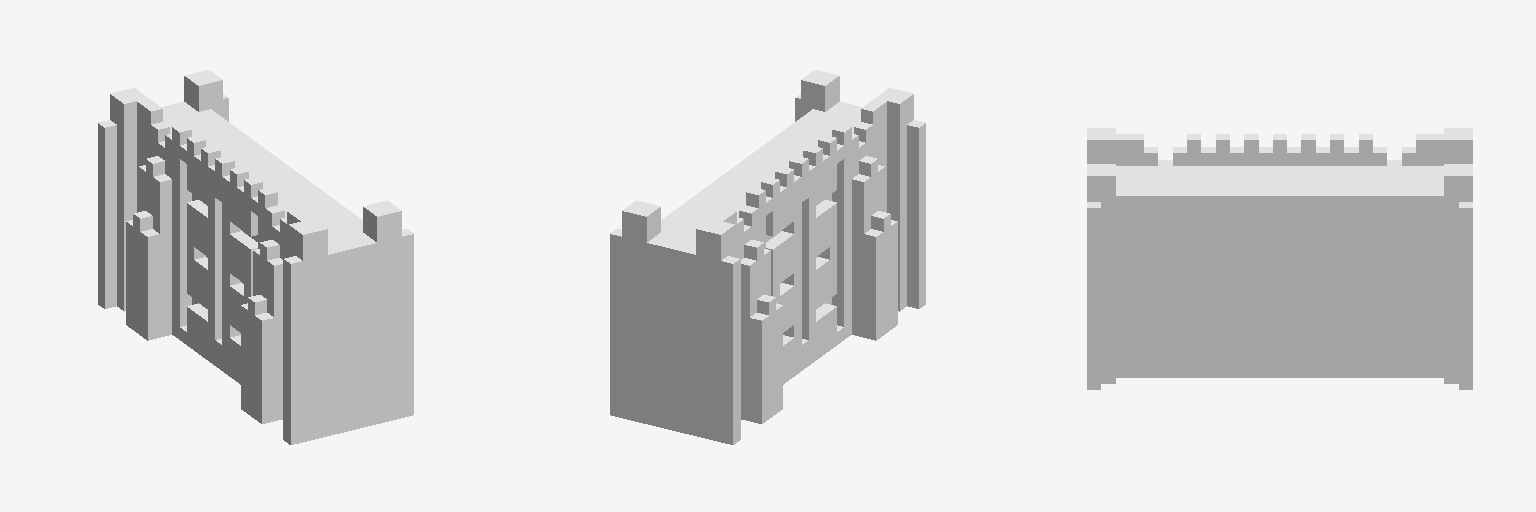
The model's file is Wall1_simple.obj.
3 views of the same model, side by side, from view 1: azimuth 30°, elevation 25°; view 2: azimuth 150°, elevation 25°; view 3: azimuth 270°, elevation 25° (orthographic).
Size of the model in its own units: 10 by 16 by 27.